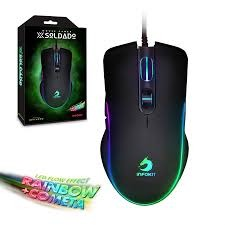mouse: (99, 41, 200, 202)
